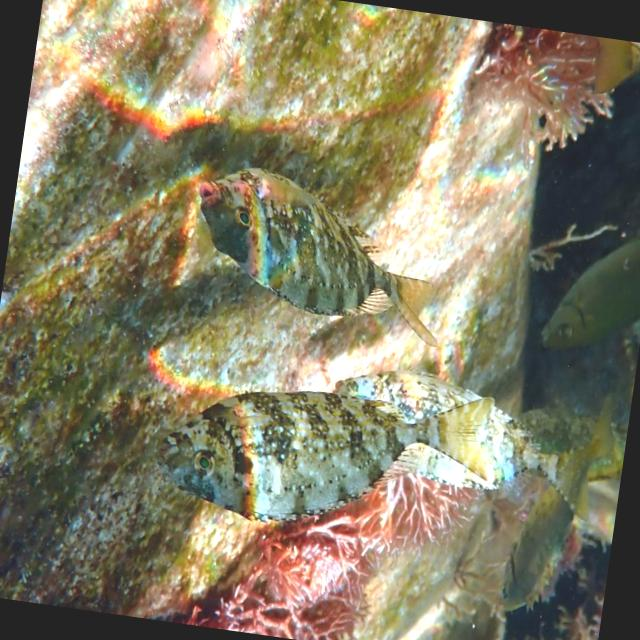Sokar Baligi: (140, 317, 523, 579), (167, 148, 488, 362)
